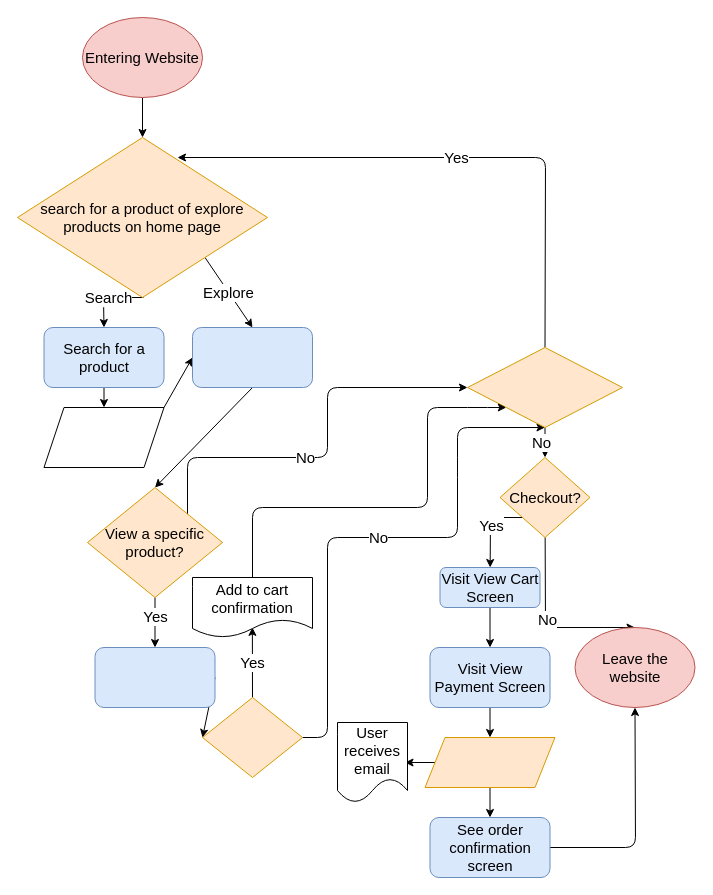
The diagram is 713 pixels wide and 895 high, and some of its shapes have lost their labels. The shapes that lost their labels are listed below. From the top down, each one's box as (x1, y1, x2, y2) in pixels, then its label:
(192, 326, 312, 388): Looking over products
(466, 346, 622, 428): Continue shopping?
(43, 406, 164, 468): User input for search
(94, 646, 215, 708): Open product webpage
(202, 696, 302, 778): Add to cart?
(424, 736, 555, 788): User input for payment information
